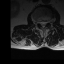CCS_normal: (42, 18, 44, 30)
LFS_normal: (47, 18, 49, 25)
LLS_normal: (44, 18, 47, 26)
RFS_normal: (37, 18, 39, 26)
RLS_normal: (39, 19, 42, 26)
